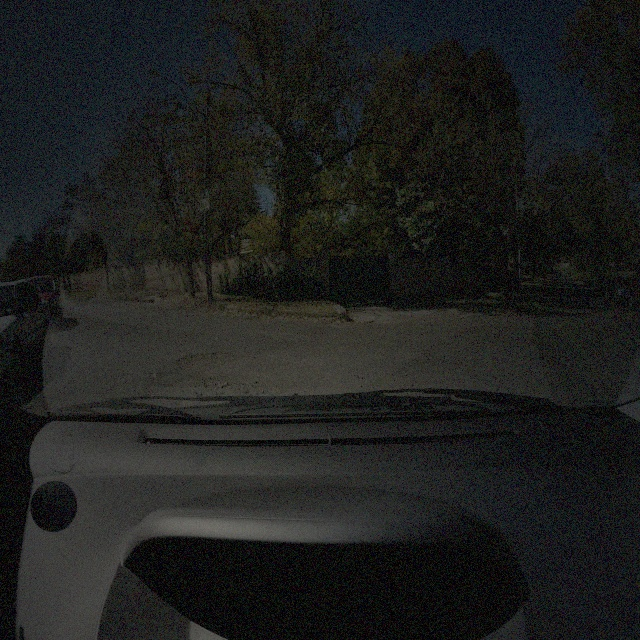pothole: (175, 345, 238, 367)
